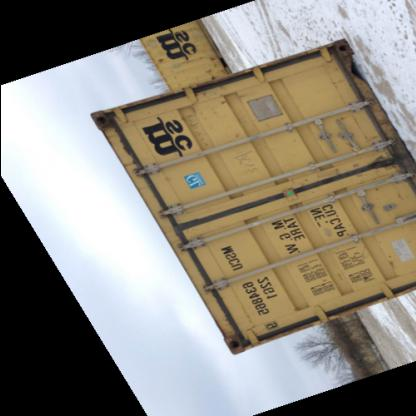Damage: (210, 289, 248, 358), (92, 109, 134, 171), (364, 138, 405, 184), (336, 42, 358, 102)
